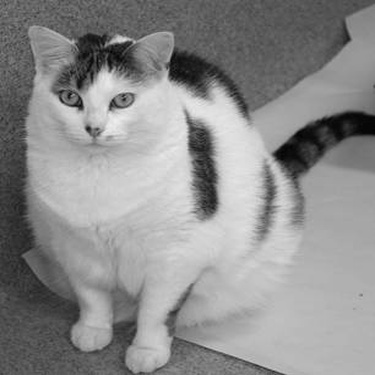cat: (1, 15, 354, 361)
